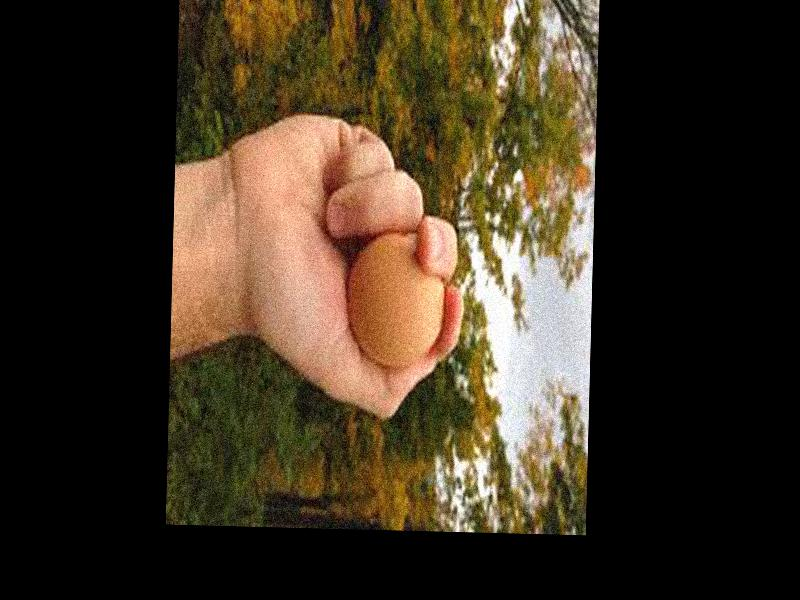Eggs: (346, 225, 445, 366)
